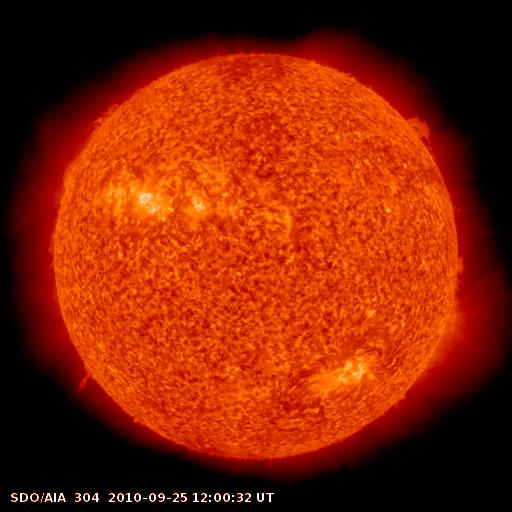prominence: (82, 80, 142, 139), (397, 103, 445, 160), (440, 248, 474, 322), (50, 147, 90, 204), (64, 358, 103, 401)
